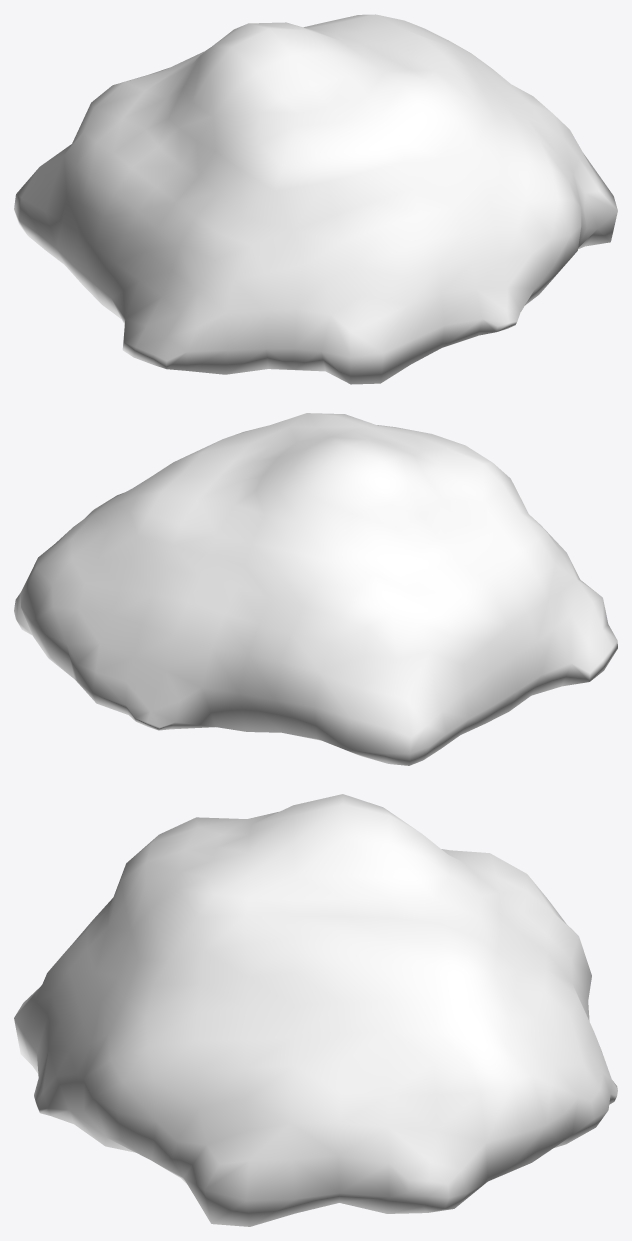
File: snow_pile02.fbx
3 renders of one model, top to bottom at view 1: azimuth 30°, elevation 25°; view 2: azimuth 150°, elevation 25°; view 3: azimuth 270°, elevation 25°, orthographic. The views are drawn at different scales.
Visible parts, largest first — view 1: UV Sphere; view 2: UV Sphere; view 3: UV Sphere.
Boxes of the visible parts, <box> form: UV Sphere: <box>14,14,617,384</box>; UV Sphere: <box>14,413,617,765</box>; UV Sphere: <box>14,794,617,1226</box>.
Size of the model in its own units: 1.2 by 0.552 by 1.12.
Materials: 1 (1 with a texture image).
